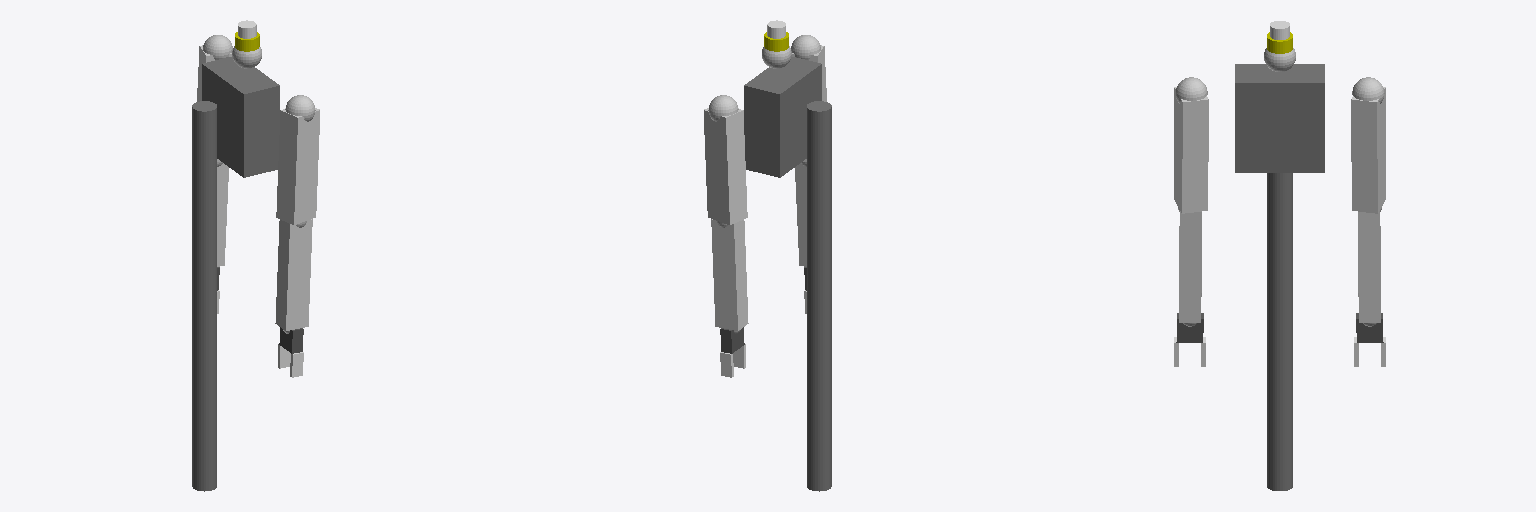
--- What the picture shows (computed from the rendered views, not written in the file) ---
Views: 3 orthographic renders of the robot side by side, from view 1: azimuth 30°, elevation 25°; view 2: azimuth 150°, elevation 25°; view 3: azimuth 270°, elevation 25°.
Model reachy2 with 40 links and 39 joints (21 revolute, 18 fixed), rooted at world, posed every joint at zero.
Links seen in each view (by area): view 1: torso, r_shoulder_link, r_elbow_link, l_elbow_link, r_shoulder_ball_link, l_shoulder_ball_link; view 2: torso, l_shoulder_link, l_elbow_link, r_elbow_link, l_shoulder_ball_link, r_shoulder_ball_link; view 3: torso, r_shoulder_link, l_shoulder_link, r_elbow_link, l_elbow_link, r_shoulder_ball_link, l_shoulder_ball_link, r_hand_palm_link, l_hand_palm_link, neck_ball_link.
Link boxes in pixels (left/top/right/bottom): torso: left=192, top=57, right=279, bottom=491; r_shoulder_link: left=276, top=108, right=319, bottom=224; r_elbow_link: left=275, top=219, right=312, bottom=330; l_elbow_link: left=217, top=163, right=228, bottom=266; r_shoulder_ball_link: left=285, top=95, right=315, bottom=121; l_shoulder_ball_link: left=203, top=35, right=232, bottom=59; torso: left=744, top=57, right=831, bottom=491; l_shoulder_link: left=704, top=108, right=747, bottom=224; l_elbow_link: left=711, top=219, right=748, bottom=330; r_elbow_link: left=795, top=163, right=806, bottom=266; l_shoulder_ball_link: left=708, top=95, right=738, bottom=121; r_shoulder_ball_link: left=791, top=35, right=820, bottom=59; torso: left=1235, top=64, right=1324, bottom=490; r_shoulder_link: left=1174, top=87, right=1208, bottom=213; l_shoulder_link: left=1351, top=87, right=1385, bottom=213; r_elbow_link: left=1179, top=211, right=1201, bottom=322; l_elbow_link: left=1358, top=211, right=1380, bottom=322; r_shoulder_ball_link: left=1175, top=77, right=1207, bottom=103; l_shoulder_ball_link: left=1352, top=77, right=1384, bottom=103; r_hand_palm_link: left=1176, top=313, right=1203, bottom=342; l_hand_palm_link: left=1356, top=313, right=1383, bottom=342; neck_ball_link: left=1264, top=48, right=1295, bottom=71.
Size in the robot's own frame: 0.2239 by 0.4743 by 1.19 metres.
Meshes: 1 distinct files referenced, 0 mesh visuals loaded (none loaded); not drawn: 1 (reference not matched to a file when rendering).

URDF robot description (reachy2):
<?xml version="1.0" ?>
<!-- =================================================================================== -->
<!-- |    This document was autogenerated by xacro from [local-path]/reachy_ws/install/reachy_description/share/reachy_description/urdf/reachy.urdf.xacro | -->
<!-- |    EDITING THIS FILE BY HAND IS NOT RECOMMENDED                                 | -->
<!-- =================================================================================== -->
<!-- Downloaded from https://github.com/pollen-robotics/reachy2_modelling/blob/master/reachy.urdf -->
<robot name="reachy2">
  <!-- convergence angle (rad) of the cameras. 0=parallel-->
  <!-- URDF definition is so stupid we have to do that... -->
  <!-- <material name="gripperblack"> -->
  <!--     <color rgba="0.4 0.4 0.4 1"/> -->
  <!-- </material> -->
  <!-- <material name="gripperwhite"> -->
  <!--     <color rgba="0.9 0.9 0.9 1"/> -->
  <!-- </material> -->
  <!-- <material name="reachy_yellow"> -->
  <!--     <color rgba="0.8 0.8 0.0 1"/> -->
  <!-- </material> -->
  <!-- <material name="reachy_grey"> -->
  <!--     <color rgba="0.8 0.8 0.8 1"/> -->
  <!-- </material> -->
  <!-- <material name="reachy_metal"> -->
  <!--     <color rgba="0.85 0.85 0.85 1.0"/> -->
  <!-- </material> -->
  <!-- <material name="torsoblack"> -->
  <!--     <color rgba="0.5 0.5 0.5 1.0"/> -->
  <!-- </material> -->
  <!-- <material name="eyewhite"> -->
  <!--     <color rgba="1.0 1.0 1.0 1.0"/> -->
  <!-- </material> -->
  <!-- <material name="orbita2dmetal"> -->
  <!--     <color rgba="0.85 0.85 0.85 1.0"/> -->
  <!-- </material> -->
  <!-- <material name="orbita2dgrey"> -->
  <!--     <color rgba="0.8 0.8 0.8 1.0"/> -->
  <!-- </material> -->
  <!-- <material name="orbita3d_yellow"> -->
  <!--     <color rgba="0.8 0.8 0.0 1"/> -->
  <!-- </material> -->
  <!-- <material name="orbita3d_grey"> -->
  <!--     <color rgba="0.8 0.8 0.8 1"/> -->
  <!-- </material> -->
  <material name="camblack">
    <color rgba="0.2 0.2 0.2 1"/>
  </material>
  <material name="neckwhite">
    <color rgba="0.9 0.9 0.9 1"/>
  </material>
  <!-- URDF definition is so stupid we have to do that... -->
  <!-- <material name="gripperblack"> -->
  <!--     <color rgba="0.4 0.4 0.4 1"/> -->
  <!-- </material> -->
  <!-- <material name="gripperwhite"> -->
  <!--     <color rgba="0.9 0.9 0.9 1"/> -->
  <!-- </material> -->
  <!-- <material name="reachy_yellow"> -->
  <!--     <color rgba="0.8 0.8 0.0 1"/> -->
  <!-- </material> -->
  <!-- <material name="reachy_grey"> -->
  <!--     <color rgba="0.8 0.8 0.8 1"/> -->
  <!-- </material> -->
  <!-- <material name="reachy_metal"> -->
  <!--     <color rgba="0.85 0.85 0.85 1.0"/> -->
  <!-- </material> -->
  <!-- <material name="torsoblack"> -->
  <!--     <color rgba="0.5 0.5 0.5 1.0"/> -->
  <!-- </material> -->
  <!-- <material name="eyewhite"> -->
  <!--     <color rgba="1.0 1.0 1.0 1.0"/> -->
  <!-- </material> -->
  <!-- <material name="orbita2dmetal"> -->
  <!--     <color rgba="0.85 0.85 0.85 1.0"/> -->
  <!-- </material> -->
  <!-- <material name="orbita2dgrey"> -->
  <!--     <color rgba="0.8 0.8 0.8 1.0"/> -->
  <!-- </material> -->
  <!-- <material name="orbita3d_yellow"> -->
  <!--     <color rgba="0.8 0.8 0.0 1"/> -->
  <!-- </material> -->
  <!-- <material name="orbita3d_grey"> -->
  <!--     <color rgba="0.8 0.8 0.8 1"/> -->
  <!-- </material> -->
  <!-- URDF definition is so stupid we have to do that... -->
  <!-- <material name="gripperblack"> -->
  <!--     <color rgba="0.4 0.4 0.4 1"/> -->
  <!-- </material> -->
  <!-- <material name="gripperwhite"> -->
  <!--     <color rgba="0.9 0.9 0.9 1"/> -->
  <!-- </material> -->
  <!-- <material name="reachy_yellow"> -->
  <!--     <color rgba="0.8 0.8 0.0 1"/> -->
  <!-- </material> -->
  <!-- <material name="reachy_grey"> -->
  <!--     <color rgba="0.8 0.8 0.8 1"/> -->
  <!-- </material> -->
  <!-- <material name="reachy_metal"> -->
  <!--     <color rgba="0.85 0.85 0.85 1.0"/> -->
  <!-- </material> -->
  <!-- <material name="torsoblack"> -->
  <!--     <color rgba="0.5 0.5 0.5 1.0"/> -->
  <!-- </material> -->
  <!-- <material name="eyewhite"> -->
  <!--     <color rgba="1.0 1.0 1.0 1.0"/> -->
  <!-- </material> -->
  <!-- <material name="orbita2dmetal"> -->
  <!--     <color rgba="0.85 0.85 0.85 1.0"/> -->
  <!-- </material> -->
  <!-- <material name="orbita2dgrey"> -->
  <!--     <color rgba="0.8 0.8 0.8 1.0"/> -->
  <!-- </material> -->
  <!-- <material name="orbita3d_yellow"> -->
  <!--     <color rgba="0.8 0.8 0.0 1"/> -->
  <!-- </material> -->
  <!-- <material name="orbita3d_grey"> -->
  <!--     <color rgba="0.8 0.8 0.8 1"/> -->
  <!-- </material> -->
  <!-- <material name="orbita2dmetal"> -->
  <!--     <color rgba="0.85 0.85 0.85 1.0"/> -->
  <!-- </material> -->
  <!-- <material name="orbita2dgrey"> -->
  <!--     <color rgba="0.8 0.8 0.8 1.0"/> -->
  <!-- </material> -->
  <!-- config  -->
  <!-- MODEL PARAMETERS -->
  <!-- <material name="torsoblack"> -->
  <!--     <color rgba="0.5 0.5 0.5 1.0"/> -->
  <!-- </material> -->
  <link name="world"/>
  <joint name="world_joint" type="fixed">
    <origin rpy="0 0 0" xyz="0 0 1.0"/>
    <parent link="world"/>
    <child link="torso"/>
  </joint>
  <!-- TORSO -->
  <link name="torso">
    <collision>
      <origin rpy="0 0.0 0" xyz="-0.05 0 -0.05"/>
      <geometry>
        <box size="0.1 0.2 0.22"/>
      </geometry>
      <!-- <origin xyz="0 0 -0.5" rpy="0 0 0"/> -->
      <!-- <geometry> -->
      <!--   <cylinder length="1" radius="0.03"/> -->
      <!-- </geometry> -->
    </collision>
    <collision>
      <origin rpy="0 0 0" xyz="-0.15 0 -0.5"/>
      <geometry>
        <cylinder length="1" radius="0.03"/>
      </geometry>
    </collision>
    <visual>
      <origin rpy="0 0.0 0" xyz="-0.05 0 -0.05"/>
      <geometry>
        <box size="0.1 0.2 0.22"/>
      </geometry>
      <material name="torsoblack">
        <color rgba="0.5 0.5 0.5 1.0"/>
      </material>
    </visual>
    <visual>
      <origin rpy="0 0 0" xyz="-0.15 0 -0.5"/>
      <geometry>
        <cylinder length="1" radius="0.03"/>
      </geometry>
      <material name="torsoblack">
        <color rgba="0.5 0.5 0.5 1.0"/>
      </material>
    </visual>
    <inertial>
      <mass value="10"/>
      <origin rpy="0 0 0" xyz="0 0 0.5"/>
      <inertia ixx="0.8354166666666666" ixy="0.0" ixz="0.0" iyy="0.8354166666666666" iyz="0.0" izz="0.0041666666666666675"/>
    </inertial>
  </link>
  <gazebo reference="torso">
    <material>Gazebo/Black</material>
    <static>true</static>
  </gazebo>
  <!--
      Orbita3d

    link                      (joint)

    ${parent}                  (${name}_roll)
      ${name}_dummy_link1      (${name}_pitch)
        ${name}_dummy_link2    (${name}_yaw)
          ${name}_link         (${name}_ball_joint)
            ${name}_ball_link
    -->
  <link name="neck_dummy_link1">
    <inertial>
      <mass value="0.005"/>
      <origin rpy="0 0 0" xyz="0 0 0"/>
      <inertia ixx="2.5416666666666668e-06" ixy="0.0" ixz="0.0" iyy="2.5416666666666668e-06" iyz="0.0" izz="3e-06"/>
    </inertial>
  </link>
  <link name="neck_dummy_link2">
    <inertial>
      <mass value="0.005"/>
      <origin rpy="0 0 0" xyz="0 0 0"/>
      <inertia ixx="2.5416666666666668e-06" ixy="0.0" ixz="0.0" iyy="2.5416666666666668e-06" iyz="0.0" izz="3e-06"/>
    </inertial>
  </link>
  <link name="neck_link">
    <visual>
      <origin rpy="0 0 0" xyz="0 0 0.025"/>
      <geometry>
        <cylinder length="0.05" radius="0.03"/>
      </geometry>
      <material name="orbita3d_yellow">
        <color rgba="0.8 0.8 0.0 1"/>
      </material>
    </visual>
    <collision>
      <origin rpy="0 0 0" xyz="0 0 0.025"/>
      <geometry>
        <cylinder length="0.05" radius="0.03"/>
      </geometry>
    </collision>
    <inertial>
      <mass value="0.24"/>
      <origin rpy="0 0 0" xyz="0 0 -0.025"/>
      <inertia ixx="0.000122" ixy="0.0" ixz="0.0" iyy="0.000122" iyz="0.0" izz="0.000144"/>
    </inertial>
  </link>
  <link name="neck_ball_link">
    <visual>
      <origin rpy="0 0 0" xyz="0 0 0"/>
      <geometry>
        <sphere radius="0.036"/>
      </geometry>
      <material name="orbita3d_grey">
        <color rgba="0.8 0.8 0.8 1"/>
      </material>
    </visual>
    <collision>
      <origin rpy="0 0 0" xyz="0 0 0"/>
      <geometry>
        <sphere radius="0.036"/>
      </geometry>
    </collision>
    <inertial>
      <mass value="0.25"/>
      <origin xyz="0 0 0"/>
      <inertia ixx="0.00012959999999999998" ixy="0.0" ixz="0.0" iyy="0.00012959999999999998" iyz="0.0" izz="0.00012959999999999998"/>
    </inertial>
  </link>
  <joint name="neck_ball_joint" type="fixed">
    <origin rpy="0 0 0" xyz="0 0 0"/>
    <parent link="neck_link"/>
    <child link="neck_ball_link"/>
  </joint>
  <joint name="neck_roll" type="revolute">
    <origin rpy="0 0 0.0" xyz="-0.032893 0 0.110675"/>
    <parent link="torso"/>
    <child link="neck_dummy_link1"/>
    <axis xyz="1 0 0"/>
    <limit effort="1000.0" lower="-0.35" upper="0.35" velocity="100.0"/>
    <dynamics damping="0.1" friction="0.1"/>
  </joint>
  <joint name="neck_pitch" type="revolute">
    <origin rpy="0 0 0" xyz="0 0 0"/>
    <parent link="neck_dummy_link1"/>
    <child link="neck_dummy_link2"/>
    <axis xyz="0 1 0"/>
    <limit effort="1000.0" lower="-0.35" upper="0.35" velocity="100.0"/>
    <dynamics damping="0.1" friction="0.1"/>
  </joint>
  <joint name="neck_yaw" type="revolute">
    <origin rpy="0 0 0" xyz="0 0 0"/>
    <parent link="neck_dummy_link2"/>
    <child link="neck_link"/>
    <axis xyz="0 0 1"/>
    <limit effort="1000.0" lower="-1.57" upper="1.57" velocity="100.0"/>
    <dynamics damping="0.1" friction="0.1"/>
  </joint>
  <ros2_control name="neck" type="system">
    <hardware>
      <plugin>fake_components/GenericSystem</plugin>
    </hardware>
    <gpio name="neck">
      <state_interface name="torque">
        <param name="initial_value">0.0</param>
      </state_interface>
      <command_interface name="torque"/>
    </gpio>
    <joint name="neck_roll">
      <state_interface name="position">
        <param name="initial_value">0.0</param>
      </state_interface>
      <state_interface name="velocity">
        <param name="initial_value">0.0</param>
      </state_interface>
      <state_interface name="effort">
        <param name="initial_value">0.0</param>
      </state_interface>
      <command_interface name="position"/>
    </joint>
    <joint name="neck_pitch">
      <state_interface name="position">
        <param name="initial_value">0.0</param>
      </state_interface>
      <state_interface name="velocity">
        <param name="initial_value">0.0</param>
      </state_interface>
      <state_interface name="effort">
        <param name="initial_value">0.0</param>
      </state_interface>
      <command_interface name="position"/>
    </joint>
    <joint name="neck_yaw">
      <state_interface name="position">
        <param name="initial_value">0.0</param>
      </state_interface>
      <state_interface name="velocity">
        <param name="initial_value">0.0</param>
      </state_interface>
      <state_interface name="effort">
        <param name="initial_value">0.0</param>
      </state_interface>
      <command_interface name="position"/>
    </joint>
    <gpio name="neck_raw_motor_1">
      <state_interface name="speed_limit"/>
      <command_interface name="speed_limit"/>
      <state_interface name="torque_limit"/>
      <command_interface name="torque_limit"/>
      <state_interface name="p_gain"/>
      <command_interface name="p_gain"/>
      <state_interface name="i_gain"/>
      <command_interface name="i_gain"/>
      <state_interface name="d_gain"/>
      <command_interface name="d_gain"/>
    </gpio>
    <gpio name="neck_raw_motor_2">
      <state_interface name="speed_limit"/>
      <command_interface name="speed_limit"/>
      <state_interface name="torque_limit"/>
      <command_interface name="torque_limit"/>
      <state_interface name="p_gain"/>
      <command_interface name="p_gain"/>
      <state_interface name="i_gain"/>
      <command_interface name="i_gain"/>
      <state_interface name="d_gain"/>
      <command_interface name="d_gain"/>
    </gpio>
    <gpio name="neck_raw_motor_3">
      <state_interface name="speed_limit"/>
      <command_interface name="speed_limit"/>
      <state_interface name="torque_limit"/>
      <command_interface name="torque_limit"/>
      <state_interface name="p_gain"/>
      <command_interface name="p_gain"/>
      <state_interface name="i_gain"/>
      <command_interface name="i_gain"/>
      <state_interface name="d_gain"/>
      <command_interface name="d_gain"/>
    </gpio>
  </ros2_control>
  <joint name="neck_fixed" type="fixed">
    <origin rpy="0.0 0.0 0.0" xyz="0 0 0"/>
    <parent link="neck_ball_link"/>
    <child link="head"/>
  </joint>
  <!-- Head Links -->
  <link name="head">
    <inertial>
      <origin rpy="0.0 0.0 0.0" xyz="-0.009 -0.002 0.059"/>
      <mass value="0.237"/>
      <inertia ixx="1.676e-3" ixy="3.068e-6" ixz="1.2449e-4" iyy="1.368e-3" iyz="3.360e-5" izz="8.425e-4"/>
    </inertial>
    <visual name="">
      <origin rpy="0.0 0.0 0.0" xyz="0.0075 0.0 0.085"/>
      <geometry>
        <mesh filename="reachy_description/meshes/head.dae"/>
        <box size="0.015 0.1245 0.0265"/>
      </geometry>
      <material name="camblack"/>
    </visual>
    <collision>
      <origin rpy="0.0 0.0 0.0" xyz="0.0075 0.0 0.085"/>
      <geometry>
        <box size="0.015 0.1245 0.0265"/>
      </geometry>
    </collision>
  </link>
  <link name="head_base">
    <visual name="">
      <origin rpy="0.0 0.0 0.0" xyz="0.00 0.0 0.0425"/>
      <geometry>
        <cylinder length="0.07" radius="0.0225"/>
      </geometry>
      <material name="neckwhite"/>
    </visual>
  </link>
  <joint name="head_base_fixed" type="fixed">
    <origin rpy="0.0 0.0 0" xyz="0.0 0 0.0"/>
    <parent link="head"/>
    <child link="head_base"/>
  </joint>
  <!-- <link name="head_tracker"> -->
  <!--   <visual name=""> -->
  <!--     <origin xyz="0 0 0" rpy="0.0 0.0 0.0"/> -->
  <!--     <geometry> -->
  <!-- 	  <cylinder length="0.04" radius="0.04"/> -->
  <!--     </geometry> -->
  <!-- 	<material name="camblack"/> -->
  <!--   </visual> -->
  <!-- </link> -->
  <!-- <joint name="head_tracker_fixed" type="fixed"> -->
  <!--   <origin xyz="-0.030 0.0 0.111" rpy="0.0 0.0 0"/> -->
  <!--   <parent link="head" /> -->
  <!--   <child link="head_tracker" /> -->
  <!-- </joint> -->
  <link name="head_tip">
    </link>
  <joint name="head_tip_fixed" type="fixed">
    <!-- between the cameras -->
    <origin rpy="0 0.0 0" xyz="0.030 0.022 0.085"/>
    <!-- Rotation center -->
    <!-- <origin xyz="0.0 0 0.0" rpy="0.0 0.0 0"/> -->
    <parent link="head"/>
    <child link="head_tip"/>
  </joint>
  <link name="camera_optical_left">
    </link>
  <joint name="camera_optical_left" type="fixed">
    <!-- between the cameras -->
    <origin rpy="-1.57 0.0 -1.57" xyz="0.030 0.022 0.085"/>
    <!-- Rotation center -->
    <!-- <origin xyz="0.0 0 0.0" rpy="0.0 0.0 0"/> -->
    <parent link="head"/>
    <child link="camera_optical_left"/>
  </joint>
  <!-- Reachy Cameras -->
  <!-- URDF definition is so stupid we have to do that... -->
  <!-- <material name="gripperblack"> -->
  <!--     <color rgba="0.4 0.4 0.4 1"/> -->
  <!-- </material> -->
  <!-- <material name="gripperwhite"> -->
  <!--     <color rgba="0.9 0.9 0.9 1"/> -->
  <!-- </material> -->
  <!-- <material name="reachy_yellow"> -->
  <!--     <color rgba="0.8 0.8 0.0 1"/> -->
  <!-- </material> -->
  <!-- <material name="reachy_grey"> -->
  <!--     <color rgba="0.8 0.8 0.8 1"/> -->
  <!-- </material> -->
  <!-- <material name="reachy_metal"> -->
  <!--     <color rgba="0.85 0.85 0.85 1.0"/> -->
  <!-- </material> -->
  <!-- <material name="torsoblack"> -->
  <!--     <color rgba="0.5 0.5 0.5 1.0"/> -->
  <!-- </material> -->
  <!-- <material name="eyewhite"> -->
  <!--     <color rgba="1.0 1.0 1.0 1.0"/> -->
  <!-- </material> -->
  <!-- <material name="orbita2dmetal"> -->
  <!--     <color rgba="0.85 0.85 0.85 1.0"/> -->
  <!-- </material> -->
  <!-- <material name="orbita2dgrey"> -->
  <!--     <color rgba="0.8 0.8 0.8 1.0"/> -->
  <!-- </material> -->
  <!-- <material name="orbita3d_yellow"> -->
  <!--     <color rgba="0.8 0.8 0.0 1"/> -->
  <!-- </material> -->
  <!-- <material name="orbita3d_grey"> -->
  <!--     <color rgba="0.8 0.8 0.8 1"/> -->
  <!-- </material> -->
  <!-- URDF definition is so stupid we have to do that... -->
  <!-- <material name="gripperblack"> -->
  <!--     <color rgba="0.4 0.4 0.4 1"/> -->
  <!-- </material> -->
  <!-- <material name="gripperwhite"> -->
  <!--     <color rgba="0.9 0.9 0.9 1"/> -->
  <!-- </material> -->
  <!-- <material name="reachy_yellow"> -->
  <!--     <color rgba="0.8 0.8 0.0 1"/> -->
  <!-- </material> -->
  <!-- <material name="reachy_grey"> -->
  <!--     <color rgba="0.8 0.8 0.8 1"/> -->
  <!-- </material> -->
  <!-- <material name="reachy_metal"> -->
  <!--     <color rgba="0.85 0.85 0.85 1.0"/> -->
  <!-- </material> -->
  <!-- <material name="torsoblack"> -->
  <!--     <color rgba="0.5 0.5 0.5 1.0"/> -->
  <!-- </material> -->
  <!-- <material name="eyewhite"> -->
  <!--     <color rgba="1.0 1.0 1.0 1.0"/> -->
  <!-- </material> -->
  <!-- <material name="orbita2dmetal"> -->
  <!--     <color rgba="0.85 0.85 0.85 1.0"/> -->
  <!-- </material> -->
  <!-- <material name="orbita2dgrey"> -->
  <!--     <color rgba="0.8 0.8 0.8 1.0"/> -->
  <!-- </material> -->
  <!-- <material name="orbita3d_yellow"> -->
  <!--     <color rgba="0.8 0.8 0.0 1"/> -->
  <!-- </material> -->
  <!-- <material name="orbita3d_grey"> -->
  <!--     <color rgba="0.8 0.8 0.8 1"/> -->
  <!-- </material> -->
  <!-- <material name="orbita2dmetal"> -->
  <!--     <color rgba="0.85 0.85 0.85 1.0"/> -->
  <!-- </material> -->
  <!-- <material name="orbita2dgrey"> -->
  <!--     <color rgba="0.8 0.8 0.8 1.0"/> -->
  <!-- </material> -->
  <!-- <!-\- Orbita2d config -\-> -->
  <!-- <xacro:arg name="orbita2d_shoulder_config" default="$(find
    orbita2d_description)/config/fake.yaml"/> -->
  <!-- <xacro:arg name="orbita2d_elbow_config" default="$(find
    orbita2d_description)/config/fake.yaml"/> -->
  <!-- <!-\- Orbita3d config -\-> -->
  <!-- <xacro:arg name="orbita3d_wrist_config" default="$(find
    orbita3d_controller)/config/fake.yaml"/> -->
  <!-- ARM PARAMETERS -->
  <link name="r_virtual_offset"/>
  <joint name="r_virtual_joint" type="fixed">
    <origin rpy="-0.17453292519943295 0 0" xyz="0 0 0"/>
    <parent link="torso"/>
    <child link="r_virtual_offset"/>
  </joint>
  <!--
      Orbita 2 dof

    link                      (joint)

    ${parent}                 (${name}_joint1)
      ${name}_dummy_link      (${name}_joint2)
        ${name}_link          (${name}_ball_joint)
          ${name}_ball_link
    -->
  <link name="r_shoulder_dummy_link">
    <inertial>
      <mass value="0.005"/>
      <origin rpy="0 0 0" xyz="0 0 0"/>
      <inertia ixx="3.416666666666667e-05" ixy="0.0" ixz="0.0" iyy="3.416666666666667e-05" iyz="0.0" izz="3e-06"/>
    </inertial>
  </link>
  <joint name="r_shoulder_pitch" type="revolute">
    <origin rpy="0.17453292519943295 0 0.2617993877991494" xyz="0.0 -0.2 0.0"/>
    <parent link="r_virtual_offset"/>
    <child link="r_shoulder_dummy_link"/>
    <axis xyz="0 1 0"/>
    <limit effort="1000.0" lower="-1.5707963267948966" upper="1.5707963267948966" velocity="100.0"/>
    <safety_controller k_position="500" k_velocity="500" soft_lower_limit="-3.1415" soft_upper_limit="3.1415"/>
    <dynamics damping="0.1" friction="0.1"/>
  </joint>
  <link name="r_shoulder_link">
    <collision>
      <origin rpy="0 0 0" xyz="0 0 -0.14"/>
      <geometry>
        <!-- <cylinder length="${length}" radius="${radius}"/> -->
        <box size="0.075 0.06 0.28"/>
      </geometry>
    </collision>
    <visual>
      <origin rpy="0 0 0" xyz="0 0 -0.14"/>
      <geometry>
        <!-- <cylinder length="${length}" radius="${radius}"/> -->
        <box size="0.075 0.06 0.28"/>
      </geometry>
      <material name="orbita2dmetal">
        <color rgba="0.85 0.85 0.85 1.0"/>
      </material>
    </visual>
    <inertial>
      <mass value="0.245"/>
      <origin rpy="0 0 0" xyz="0 0 -0.14"/>
      <inertia ixx="0.001674166666666667" ixy="0.0" ixz="0.0" iyy="0.001674166666666667" iyz="0.0" izz="0.000147"/>
    </inertial>
  </link>
  <joint name="r_shoulder_roll" type="revolute">
    <origin rpy="0 0 0" xyz="0 0 0"/>
    <parent link="r_shoulder_dummy_link"/>
    <child link="r_shoulder_link"/>
    <axis xyz="1 0 0"/>
    <limit effort="1000.0" lower="-1.5707963267948966" upper="0.0" velocity="100.0"/>
    <safety_controller k_position="500" k_velocity="500" soft_lower_limit="-3.1415" soft_upper_limit="3.1415"/>
    <dynamics damping="0.1" friction="0.1"/>
  </joint>
  <gazebo reference="r_shoulder_link">
    <material>Gazebo/Orange</material>
  </gazebo>
  <link name="r_shoulder_ball_link">
    <visual>
      <origin rpy="0 0 0" xyz="0 0 0"/>
      <geometry>
        <sphere radius="0.036"/>
      </geometry>
      <material name="orbita2dgrey">
        <color rgba="0.8 0.8 0.8 1.0"/>
      </material>
    </visual>
    <collision>
      <origin rpy="0 0 0" xyz="0 0 0"/>
      <geometry>
        <sphere radius="0.036"/>
      </geometry>
    </collision>
    <inertial>
      <mass value="0.25"/>
      <origin xyz="0 0 0"/>
      <inertia ixx="0.00012959999999999998" ixy="0.0" ixz="0.0" iyy="0.00012959999999999998" iyz="0.0" izz="0.00012959999999999998"/>
    </inertial>
  </link>
  <joint name="r_shoulder_ball_joint" type="fixed">
    <origin rpy="0 0 0" xyz="0 0 0"/>
    <parent link="r_shoulder_link"/>
    <child link="r_shoulder_ball_link"/>
  </joint>
  <!--
      Orbita 2 dof

    link                      (joint)

    ${parent}                 (${name}_joint1)
      ${name}_dummy_link      (${name}_joint2)
        ${name}_link          (${name}_ball_joint)
          ${name}_ball_link
    -->
  <link name="r_elbow_dummy_link">
    <inertial>
      <mass value="0.0045000000000000005"/>
      <origin rpy="0 0 0" xyz="0 0 0"/>
      <inertia ixx="3.033750000000001e-05" ixy="0.0" ixz="0.0" iyy="3.033750000000001e-05" iyz="0.0" izz="1.8750000000000007e-06"/>
    </inertial>
  </link>
  <joint name="r_elbow_yaw" type="revolute">
    <origin rpy="0 0 -0.2617993877991494" xyz="0 0 -0.28"/>
    <parent link="r_shoulder_ball_link"/>
    <child link="r_elbow_dummy_link"/>
    <axis xyz="0 0 1"/>
    <limit effort="1000.0" lower="-1.5707963267948966" upper="1.5707963267948966" velocity="100.0"/>
    <safety_controller k_position="500" k_velocity="500" soft_lower_limit="-3.1415" soft_upper_limit="3.1415"/>
    <dynamics damping="0.1" friction="0.1"/>
  </joint>
  <link name="r_elbow_link">
    <collision>
      <origin rpy="0 0 0" xyz="0 0 -0.14"/>
      <geometry>
        <!-- <cylinder length="${length}" radius="${radius}"/> -->
        <box size="0.0625 0.05 0.28"/>
      </geometry>
    </collision>
    <visual>
      <origin rpy="0 0 0" xyz="0 0 -0.14"/>
      <geometry>
        <!-- <cylinder length="${length}" radius="${radius}"/> -->
        <box size="0.0625 0.05 0.28"/>
      </geometry>
      <material name="orbita2dmetal">
        <color rgba="0.85 0.85 0.85 1.0"/>
      </material>
    </visual>
    <inertial>
      <mass value="0.2205"/>
      <origin rpy="0 0 0" xyz="0 0 -0.14"/>
      <inertia ixx="0.0014865375000000002" ixy="0.0" ixz="0.0" iyy="0.0014865375000000002" iyz="0.0" izz="9.187500000000001e-05"/>
    </inertial>
  </link>
  <joint name="r_elbow_pitch" type="revolute">
    <origin rpy="0 0 0" xyz="0 0 0"/>
    <parent link="r_elbow_dummy_link"/>
    <child link="r_elbow_link"/>
    <axis xyz="0 1 0"/>
    <limit effort="1000.0" lower="-2.25" upper="0.1" velocity="100.0"/>
    <safety_controller k_position="500" k_velocity="500" soft_lower_limit="-3.1415" soft_upper_limit="3.1415"/>
    <dynamics damping="0.1" friction="0.1"/>
  </joint>
  <gazebo reference="r_elbow_link">
    <material>Gazebo/Orange</material>
  </gazebo>
  <link name="r_elbow_ball_link">
    <visual>
      <origin rpy="0 0 0" xyz="0 0 0"/>
      <geometry>
        <sphere radius="0.03"/>
      </geometry>
      <material name="orbita2dgrey">
        <color rgba="0.8 0.8 0.8 1.0"/>
      </material>
    </visual>
    <collision>
      <origin rpy="0 0 0" xyz="0 0 0"/>
      <geometry>
        <sphere radius="0.03"/>
      </geometry>
    </collision>
    <inertial>
      <mass value="0.225"/>
      <origin xyz="0 0 0"/>
      <inertia ixx="8.1e-05" ixy="0.0" ixz="0.0" iyy="8.1e-05" iyz="0.0" izz="8.1e-05"/>
    </inertial>
  </link>
  <joint name="r_elbow_ball_joint" type="fixed">
    <origin rpy="0 0 0" xyz="0 0 0"/>
    <parent link="r_elbow_link"/>
    <child link="r_elbow_ball_link"/>
  </joint>
  <!--
      Orbita3d

    link                      (joint)

    ${parent}                  (${name}_roll)
      ${name}_dummy_link1      (${name}_pitch)
        ${name}_dummy_link2    (${name}_yaw)
          ${name}_link         (${name}_ball_joint)
            ${name}_ball_link
    -->
  <link name="r_wrist_dummy_link1">
    <inertial>
      <mass value="0.003"/>
      <origin rpy="0 0 0" xyz="0 0 0"/>
      <inertia ixx="4.25e-07" ixy="0.0" ixz="0.0" iyy="4.25e-07" iyz="0.0" izz="8.000000000000001e-07"/>
    </inertial>
  </link>
  <link name="r_wrist_dummy_link2">
    <inertial>
      <mass value="0.003"/>
      <origin rpy="0 0 0" xyz="0 0 0"/>
      <inertia ixx="4.25e-07" ixy="0.0" ixz="0.0" iyy="4.25e-07" iyz="0.0" izz="8.000000000000001e-07"/>
    </inertial>
  </link>
  <link name="r_wrist_link">
    <visual>
      <origin rpy="0 0 0" xyz="0 0 0.005"/>
      <geometry>
        <cylinder length="0.01" radius="0.02"/>
      </geometry>
      <material name="orbita3d_yellow">
        <color rgba="0.8 0.8 0.0 1"/>
      </material>
    </visual>
    <collision>
      <origin rpy="0 0 0" xyz="0 0 0.005"/>
      <geometry>
        <cylinder length="0.01" radius="0.02"/>
      </geometry>
    </collision>
    <inertial>
      <mass value="0.144"/>
      <origin rpy="0 0 0" xyz="0 0 -0.005"/>
      <inertia ixx="2.0399999999999998e-05" ixy="0.0" ixz="0.0" iyy="2.0399999999999998e-05" iyz="0.0" izz="3.84e-05"/>
    </inertial>
  </link>
  <link name="r_wrist_ball_link">
    <visual>
      <origin rpy="0 0 0" xyz="0 0 0"/>
      <geometry>
        <sphere radius="0.024"/>
      </geometry>
      <material name="orbita3d_grey">
        <color rgba="0.8 0.8 0.8 1"/>
      </material>
    </visual>
    <collision>
      <origin rpy="0 0 0" xyz="0 0 0"/>
      <geometry>
        <sphere radius="0.024"/>
      </geometry>
    </collision>
    <inertial>
      <mass value="0.15"/>
      <origin xyz="0 0 0"/>
      <inertia ixx="3.456e-05" ixy="0.0" ixz="0.0" iyy="3.456e-05" iyz="0.0" izz="3.456e-05"/>
    </inertial>
  </link>
  <joint name="r_wrist_ball_joint" type="fixed">
    <origin rpy="0 0 0" xyz="0 0 0"/>
    <parent link="r_wrist_link"/>
    <child link="r_wrist_ball_link"/>
  </joint>
  <joint name="r_wrist_roll" type="revolute">
    <origin rpy="3.141592653589793 0 0" xyz="0 0 -0.28"/>
    <parent link="r_elbow_ball_link"/>
    <child link="r_wrist_dummy_link1"/>
    <axis xyz="1 0 0"/>
    <limit effort="1000.0" lower="-0.35" upper="0.35" velocity="100.0"/>
    <dynamics damping="0.1" friction="0.1"/>
  </joint>
  <joint name="r_wrist_pitch" type="revolute">
    <origin rpy="0 0 0" xyz="0 0 0"/>
    <parent link="r_wrist_dummy_link1"/>
    <child link="r_wrist_dummy_link2"/>
    <axis xyz="0 1 0"/>
    <limit effort="1000.0" lower="-0.35" upper="0.35" velocity="100.0"/>
    <dynamics damping="0.1" friction="0.1"/>
  </joint>
  <joint name="r_wrist_yaw" type="revolute">
    <origin rpy="0 0 0" xyz="0 0 0"/>
    <parent link="r_wrist_dummy_link2"/>
    <child link="r_wrist_link"/>
    <axis xyz="0 0 1"/>
    <limit effort="1000.0" lower="-1.57" upper="1.57" velocity="100.0"/>
    <dynamics damping="0.1" friction="0.1"/>
  </joint>
  <!-- URDF definition is so stupid we have to do that... -->
  <!-- <material name="gripperblack"> -->
  <!--     <color rgba="0.4 0.4 0.4 1"/> -->
  <!-- </material> -->
  <!-- <material name="gripperwhite"> -->
  <!--     <color rgba="0.9 0.9 0.9 1"/> -->
  <!-- </material> -->
  <!-- <material name="reachy_yellow"> -->
  <!--     <color rgba="0.8 0.8 0.0 1"/> -->
  <!-- </material> -->
  <!-- <material name="reachy_grey"> -->
  <!--     <color rgba="0.8 0.8 0.8 1"/> -->
  <!-- </material> -->
  <!-- <material name="reachy_metal"> -->
  <!--     <color rgba="0.85 0.85 0.85 1.0"/> -->
  <!-- </material> -->
  <!-- <material name="torsoblack"> -->
  <!--     <color rgba="0.5 0.5 0.5 1.0"/> -->
  <!-- </material> -->
  <!-- <material name="eyewhite"> -->
  <!--     <color rgba="1.0 1.0 1.0 1.0"/> -->
  <!-- </material> -->
  <!-- <material name="orbita2dmetal"> -->
  <!--     <color rgba="0.85 0.85 0.85 1.0"/> -->
  <!-- </material> -->
  <!-- <material name="orbita2dgrey"> -->
  <!--     <color rgba="0.8 0.8 0.8 1.0"/> -->
  <!-- </material> -->
  <!-- <material name="orbita3d_yellow"> -->
  <!--     <color rgba="0.8 0.8 0.0 1"/> -->
  <!-- </material> -->
  <!-- <material name="orbita3d_grey"> -->
  <!--     <color rgba="0.8 0.8 0.8 1"/> -->
  <!-- </material> -->
  <!-- <material name="gripperblack"> -->
  <!--     <color rgba="0.4 0.4 0.4 1"/> -->
  <!-- </material> -->
  <!-- <material name="gripperwhite"> -->
  <!--     <color rgba="0.9 0.9 0.9 1"/> -->
  <!-- </material> -->
  <link name="r_hand_palm_link">
    <collision>
      <origin rpy="0 0 0" xyz="0 0 0.03 "/>
      <geometry>
        <box size="0.03 0.06 0.06"/>
      </geometry>
    </collision>
    <visual>
      <origin rpy="0 0 0" xyz="0 0 0.03 "/>
      <geometry>
        <box size="0.03 0.06 0.06"/>
      </geometry>
      <material name="gripperblack">
        <color rgba="0.4 0.4 0.4 1"/>
      </material>
    </visual>
    <inertial>
      <mass value="0.2125"/>
      <origin rpy="0 0 0" xyz="0 0 0.03"/>
      <inertia ixx="0.00012749999999999998" ixy="0.0" ixz="0.0" iyy="7.968749999999999e-05" iyz="0.0" izz="7.968749999999999e-05"/>
    </inertial>
  </link>
  <joint name="r_hand_palm" type="fixed">
    <origin rpy="0.0 0 0.0" xyz="0 0 0"/>
    <parent link="r_wrist_ball_link"/>
    <child link="r_hand_palm_link"/>
  </joint>
  <link name="r_hand_index_link">
    <collision>
      <origin rpy="0 0 0" xyz="0 0 0.03 "/>
      <geometry>
        <box size="0.03 0.01 0.06"/>
      </geometry>
    </collision>
    <visual>
      <origin rpy="0 0 0" xyz="0 0 0.03 "/>
      <geometry>
        <box size="0.03 0.01 0.06"/>
      </geometry>
      <material name="gripperwhite">
        <color rgba="0.9 0.9 0.9 1"/>
      </material>
    </visual>
    <inertial>
      <mass value="0.025"/>
      <origin rpy="0 0 0" xyz="0 0.03 0.03"/>
      <inertia ixx="7.708333333333334e-06" ixy="0.0" ixz="0.0" iyy="9.375e-06" iyz="0.0" izz="2.0833333333333334e-06"/>
    </inertial>
  </link>
  <link name="r_hand_index_mimic_link">
    <collision>
      <origin rpy="0 0 0" xyz="0 0 0.03 "/>
      <geometry>
        <box size="0.03 0.01 0.06"/>
      </geometry>
    </collision>
    <visual>
      <origin rpy="0 0 0" xyz="0 0 0.03 "/>
      <geometry>
        <box size="0.03 0.01 0.06"/>
      </geometry>
      <material name="gripperwhite">
        <color rgba="0.9 0.9 0.9 1"/>
      </material>
    </visual>
    <inertial>
      <mass value="0.025"/>
      <origin rpy="0 0 0" xyz="0 0.03 0.03"/>
      <inertia ixx="7.708333333333334e-06" ixy="0.0" ixz="0.0" iyy="9.375e-06" iyz="0.0" izz="2.0833333333333334e-06"/>
    </inertial>
  </link>
  <joint name="r_hand_finger" type="revolute">
    <origin rpy="0 0 0" xyz="0 0.03 0.06"/>
    <parent link="r_hand_palm_link"/>
    <child link="r_hand_index_link"/>
    <axis xyz="1 0 0"/>
    <limit effort="1000.0" lower="-0.785" upper="2.094" velocity="0.0"/>
    <dynamics damping="0.1" friction="0.1"/>
  </joint>
  <joint name="r_hand_finger_mimic" type="revolute">
    <origin rpy="0 0 0" xyz="0 -0.03 0.06"/>
    <parent link="r_hand_palm_link"/>
    <child link="r_hand_index_mimic_link"/>
    <axis xyz="1 0 0"/>
    <limit effort="1000.0" lower="-0.785" upper="2.094" velocity="0.0"/>
    <dynamics damping="0.1" friction="0.1"/>
    <mimic joint="r_hand_finger" multiplier="-1" offset="0"/>
  </joint>
  <link name="r_arm_tip"/>
  <joint name="r_tip_joint" type="fixed">
    <origin rpy="3.141592653589793 0 0" xyz="0 0 0.1"/>
    <parent link="r_hand_palm_link"/>
    <child link="r_arm_tip"/>
  </joint>
  <ros2_control name="r_arm" type="system">
    <hardware>
      <!-- Use real hardware. -->
      <!-- <xacro:unless value="$(arg use_fake_hardware)"> -->
      <plugin>arm_system_hwi/ArmSystemHwi</plugin>
      <param name="config_file">[local-path]/reachy_ws/install/arm_description/share/arm_description/config/fake_arm.yaml</param>
      <!-- </xacro:unless> -->
      <!-- <xacro:if value="$(arg use_fake_hardware)"> -->
      <!-- Use gazebo as hardware simulation. -->
      <!-- <xacro:if value="$(arg use_gazebo)"> -->
      <!-- <plugin>gazebo_ros2_control/GazeboSystem</plugin> -->
      <!-- </xacro:if> -->
      <!-- Use fake components. -->
      <!-- <xacro:unless value="$(arg use_gazebo)"> -->
      <!-- <plugin>fake_components/GenericSystem</plugin> -->
      <!-- </xacro:unless> -->
      <!-- </xacro:if> -->
    </hardware>
    <gpio name="r_shoulder">
      <state_interface name="torque">
        <param name="initial_value">0.0</param>
      </state_interface>
      <command_interface name="torque"/>
    </gpio>
    <joint name="r_shoulder_pitch">
      <state_interface name="position">
        <param name="initial_value">0.0</param>
      </state_interface>
      <state_interface name="velocity">
        <param name="initial_value">0.0</param>
      </state_interface>
      <state_interface name="effort">
        <param name="initial_value">0.0</param>
      </state_interface>
      <command_interface name="position"/>
    </joint>
    <joint name="r_shoulder_roll">
      <state_interface name="position">
        <param name="initial_value">0.0</param>
      </state_interface>
      <state_interface name="velocity">
        <param name="initial_value">0.0</param>
      </state_interface>
      <state_interface name="effort">
        <param name="initial_value">0.0</param>
      </state_interface>
      <command_interface name="position"/>
    </joint>
    <gpio name="r_shoulder_raw_motor_1">
      <state_interface name="speed_limit"/>
      <command_interface name="speed_limit"/>
      <state_interface name="torque_limit"/>
      <command_interface name="torque_limit"/>
      <state_interface name="p_gain"/>
      <command_interface name="p_gain"/>
      <state_interface name="i_gain"/>
      <command_interface name="i_gain"/>
      <state_interface name="d_gain"/>
      <command_interface name="d_gain"/>
    </gpio>
    <gpio name="r_shoulder_raw_motor_2">
      <state_interface name="speed_limit"/>
      <command_interface name="speed_limit"/>
      <state_interface name="torque_limit"/>
      <command_interface name="torque_limit"/>
      <state_interface name="p_gain"/>
      <command_interface name="p_gain"/>
      <state_interface name="i_gain"/>
      <command_interface name="i_gain"/>
      <state_interface name="d_gain"/>
      <command_interface name="d_gain"/>
    </gpio>
    <gpio name="r_elbow">
      <state_interface name="torque">
        <param name="initial_value">0.0</param>
      </state_interface>
      <command_interface name="torque"/>
    </gpio>
    <joint name="r_elbow_yaw">
      <state_interface name="position">
        <param name="initial_value">0.0</param>
      </state_interface>
      <state_interface name="velocity">
        <param name="initial_value">0.0</param>
      </state_interface>
      <state_interface name="effort">
        <param name="initial_value">0.0</param>
      </state_interface>
      <command_interface name="position"/>
    </joint>
    <joint name="r_elbow_pitch">
      <state_interface name="position">
        <param name="initial_value">0.0</param>
      </state_interface>
      <state_interface name="velocity">
        <param name="initial_value">0.0</param>
      </state_interface>
      <state_interface name="effort">
        <param name="initial_value">0.0</param>
      </state_interface>
      <command_interface name="position"/>
    </joint>
    <gpio name="r_elbow_raw_motor_1">
      <state_interface name="speed_limit"/>
      <command_interface name="speed_limit"/>
      <state_interface name="torque_limit"/>
      <command_interface name="torque_limit"/>
      <state_interface name="p_gain"/>
      <command_interface name="p_gain"/>
      <state_interface name="i_gain"/>
      <command_interface name="i_gain"/>
      <state_interface name="d_gain"/>
      <command_interface name="d_gain"/>
    </gpio>
    <gpio name="r_elbow_raw_motor_2">
      <state_interface name="speed_limit"/>
      <command_interface name="speed_limit"/>
      <state_interface name="torque_limit"/>
      <command_interface name="torque_limit"/>
      <state_interface name="p_gain"/>
      <command_interface name="p_gain"/>
      <state_interface name="i_gain"/>
      <command_interface name="i_gain"/>
      <state_interface name="d_gain"/>
      <command_interface name="d_gain"/>
    </gpio>
    <gpio name="r_wrist">
      <state_interface name="torque">
        <param name="initial_value">0.0</param>
      </state_interface>
      <command_interface name="torque"/>
    </gpio>
    <joint name="r_wrist_roll">
      <state_interface name="position">
        <param name="initial_value">0.0</param>
      </state_interface>
      <state_interface name="velocity">
        <param name="initial_value">0.0</param>
      </state_interface>
      <state_interface name="effort">
        <param name="initial_value">0.0</param>
      </state_interface>
      <command_interface name="position"/>
    </joint>
    <joint name="r_wrist_pitch">
      <state_interface name="position">
        <param name="initial_value">0.0</param>
      </state_interface>
      <state_interface name="velocity">
        <param name="initial_value">0.0</param>
      </state_interface>
      <state_interface name="effort">
        <param name="initial_value">0.0</param>
      </state_interface>
      <command_interface name="position"/>
    </joint>
    <joint name="r_wrist_yaw">
      <state_interface name="position">
        <param name="initial_value">0.0</param>
      </state_interface>
      <state_interface name="velocity">
        <param name="initial_value">0.0</param>
      </state_interface>
      <state_interface name="effort">
        <param name="initial_value">0.0</param>
      </state_interface>
      <command_interface name="position"/>
    </joint>
    <gpio name="r_wrist_raw_motor_1">
      <state_interface name="speed_limit"/>
      <command_interface name="speed_limit"/>
      <state_interface name="torque_limit"/>
      <command_interface name="torque_limit"/>
      <state_interface name="p_gain"/>
      <command_interface name="p_gain"/>
      <state_interface name="i_gain"/>
      <command_interface name="i_gain"/>
      <state_interface name="d_gain"/>
      <command_interface name="d_gain"/>
    </gpio>
    <gpio name="r_wrist_raw_motor_2">
      <state_interface name="speed_limit"/>
      <command_interface name="speed_limit"/>
      <state_interface name="torque_limit"/>
      <command_interface name="torque_limit"/>
      <state_interface name="p_gain"/>
      <command_interface name="p_gain"/>
      <state_interface name="i_gain"/>
      <command_interface name="i_gain"/>
      <state_interface name="d_gain"/>
      <command_interface name="d_gain"/>
    </gpio>
    <gpio name="r_wrist_raw_motor_3">
      <state_interface name="speed_limit"/>
      <command_interface name="speed_limit"/>
      <state_interface name="torque_limit"/>
      <command_interface name="torque_limit"/>
      <state_interface name="p_gain"/>
      <command_interface name="p_gain"/>
      <state_interface name="i_gain"/>
      <command_interface name="i_gain"/>
      <state_interface name="d_gain"/>
      <command_interface name="d_gain"/>
    </gpio>
    <gpio name="r_hand">
      <state_interface name="torque">
        <param name="initial_value">0.0</param>
      </state_interface>
      <command_interface name="torque"/>
    </gpio>
    <joint name="r_hand_finger">
      <state_interface name="position">
        <param name="initial_value">0.0</param>
      </state_interface>
      <state_interface name="velocity">
        <param name="initial_value">0.0</param>
      </state_interface>
      <state_interface name="effort">
        <param name="initial_value">0.0</param>
      </state_interface>
      <command_interface name="position"/>
    </joint>
    <gpio name="r_hand_raw_motor_1">
      <state_interface name="speed_limit"/>
      <command_interface name="speed_limit"/>
      <state_interface name="torque_limit"/>
      <command_interface name="torque_limit"/>
      <state_interface name="p_gain"/>
      <command_interface name="p_gain"/>
      <state_interface name="i_gain"/>
      <command_interface name="i_gain"/>
      <state_interface name="d_gain"/>
      <command_interface name="d_gain"/>
    </gpio>
  </ros2_control>
  <!-- URDF definition is so stupid we have to do that... -->
  <!-- <material name="gripperblack"> -->
  <!--     <color rgba="0.4 0.4 0.4 1"/> -->
  <!-- </material> -->
  <!-- <material name="gripperwhite"> -->
  <!--     <color rgba="0.9 0.9 0.9 1"/> -->
  <!-- </material> -->
  <!-- <material name="reachy_yellow"> -->
  <!--     <color rgba="0.8 0.8 0.0 1"/> -->
  <!-- </material> -->
  <!-- <material name="reachy_grey"> -->
  <!--     <color rgba="0.8 0.8 0.8 1"/> -->
  <!-- </material> -->
  <!-- <material name="reachy_metal"> -->
  <!--     <color rgba="0.85 0.85 0.85 1.0"/> -->
  <!-- </material> -->
  <!-- <material name="torsoblack"> -->
  <!--     <color rgba="0.5 0.5 0.5 1.0"/> -->
  <!-- </material> -->
  <!-- <material name="eyewhite"> -->
  <!--     <color rgba="1.0 1.0 1.0 1.0"/> -->
  <!-- </material> -->
  <!-- <material name="orbita2dmetal"> -->
  <!--     <color rgba="0.85 0.85 0.85 1.0"/> -->
  <!-- </material> -->
  <!-- <material name="orbita2dgrey"> -->
  <!--     <color rgba="0.8 0.8 0.8 1.0"/> -->
  <!-- </material> -->
  <!-- <material name="orbita3d_yellow"> -->
  <!--     <color rgba="0.8 0.8 0.0 1"/> -->
  <!-- </material> -->
  <!-- <material name="orbita3d_grey"> -->
  <!--     <color rgba="0.8 0.8 0.8 1"/> -->
  <!-- </material> -->
  <!-- URDF definition is so stupid we have to do that... -->
  <!-- <material name="gripperblack"> -->
  <!--     <color rgba="0.4 0.4 0.4 1"/> -->
  <!-- </material> -->
  <!-- <material name="gripperwhite"> -->
  <!--     <color rgba="0.9 0.9 0.9 1"/> -->
  <!-- </material> -->
  <!-- <material name="reachy_yellow"> -->
  <!--     <color rgba="0.8 0.8 0.0 1"/> -->
  <!-- </material> -->
  <!-- <material name="reachy_grey"> -->
  <!--     <color rgba="0.8 0.8 0.8 1"/> -->
  <!-- </material> -->
  <!-- <material name="reachy_metal"> -->
  <!--     <color rgba="0.85 0.85 0.85 1.0"/> -->
  <!-- </material> -->
  <!-- <material name="torsoblack"> -->
  <!--     <color rgba="0.5 0.5 0.5 1.0"/> -->
  <!-- </material> -->
  <!-- <material name="eyewhite"> -->
  <!--     <color rgba="1.0 1.0 1.0 1.0"/> -->
  <!-- </material> -->
  <!-- <material name="orbita2dmetal"> -->
  <!--     <color rgba="0.85 0.85 0.85 1.0"/> -->
  <!-- </material> -->
  <!-- <material name="orbita2dgrey"> -->
  <!--     <color rgba="0.8 0.8 0.8 1.0"/> -->
  <!-- </material> -->
  <!-- <material name="orbita3d_yellow"> -->
  <!--     <color rgba="0.8 0.8 0.0 1"/> -->
  <!-- </material> -->
  <!-- <material name="orbita3d_grey"> -->
  <!--     <color rgba="0.8 0.8 0.8 1"/> -->
  <!-- </material> -->
  <!-- <material name="orbita2dmetal"> -->
  <!--     <color rgba="0.85 0.85 0.85 1.0"/> -->
  <!-- </material> -->
  <!-- <material name="orbita2dgrey"> -->
  <!--     <color rgba="0.8 0.8 0.8 1.0"/> -->
  <!-- </material> -->
  <!-- <!-\- Orbita2d config -\-> -->
  <!-- <xacro:arg name="orbita2d_shoulder_config" default="$(find
    orbita2d_description)/config/fake.yaml"/> -->
  <!-- <xacro:arg name="orbita2d_elbow_config" default="$(find
    orbita2d_description)/config/fake.yaml"/> -->
  <!-- <!-\- Orbita3d config -\-> -->
  <!-- <xacro:arg name="orbita3d_wrist_config" default="$(find
    orbita3d_controller)/config/fake.yaml"/> -->
  <!-- ARM PARAMETERS -->
  <link name="l_virtual_offset"/>
  <joint name="l_virtual_joint" type="fixed">
    <origin rpy="0.17453292519943295 0 0" xyz="0 0 0"/>
    <parent link="torso"/>
    <child link="l_virtual_offset"/>
  </joint>
  <!--
      Orbita 2 dof

    link                      (joint)

    ${parent}                 (${name}_joint1)
      ${name}_dummy_link      (${name}_joint2)
        ${name}_link          (${name}_ball_joint)
          ${name}_ball_link
    -->
  <link name="l_shoulder_dummy_link">
    <inertial>
      <mass value="0.005"/>
      <origin rpy="0 0 0" xyz="0 0 0"/>
      <inertia ixx="3.416666666666667e-05" ixy="0.0" ixz="0.0" iyy="3.416666666666667e-05" iyz="0.0" izz="3e-06"/>
    </inertial>
  </link>
  <joint name="l_shoulder_pitch" type="revolute">
    <origin rpy="-0.17453292519943295 0 -0.2617993877991494" xyz="0.0 0.2 0.0"/>
    <parent link="l_virtual_offset"/>
    <child link="l_shoulder_dummy_link"/>
    <axis xyz="0 1 0"/>
    <limit effort="1000.0" lower="-1.5707963267948966" upper="1.5707963267948966" velocity="100.0"/>
    <safety_controller k_position="500" k_velocity="500" soft_lower_limit="-3.1415" soft_upper_limit="3.1415"/>
    <dynamics damping="0.1" friction="0.1"/>
  </joint>
  <link name="l_shoulder_link">
    <collision>
      <origin rpy="0 0 0" xyz="0 0 -0.14"/>
      <geometry>
        <!-- <cylinder length="${length}" radius="${radius}"/> -->
        <box size="0.075 0.06 0.28"/>
      </geometry>
    </collision>
    <visual>
      <origin rpy="0 0 0" xyz="0 0 -0.14"/>
      <geometry>
        <!-- <cylinder length="${length}" radius="${radius}"/> -->
        <box size="0.075 0.06 0.28"/>
      </geometry>
      <material name="orbita2dmetal">
        <color rgba="0.85 0.85 0.85 1.0"/>
      </material>
    </visual>
    <inertial>
      <mass value="0.245"/>
      <origin rpy="0 0 0" xyz="0 0 -0.14"/>
      <inertia ixx="0.001674166666666667" ixy="0.0" ixz="0.0" iyy="0.001674166666666667" iyz="0.0" izz="0.000147"/>
    </inertial>
  </link>
  <joint name="l_shoulder_roll" type="revolute">
    <origin rpy="0 0 0" xyz="0 0 0"/>
    <parent link="l_shoulder_dummy_link"/>
    <child link="l_shoulder_link"/>
    <axis xyz="1 0 0"/>
    <limit effort="1000.0" lower="-1.5707963267948966" upper="0.0" velocity="100.0"/>
    <safety_controller k_position="500" k_velocity="500" soft_lower_limit="-3.1415" soft_upper_limit="3.1415"/>
    <dynamics damping="0.1" friction="0.1"/>
  </joint>
  <gazebo reference="l_shoulder_link">
    <material>Gazebo/Orange</material>
  </gazebo>
  <link name="l_shoulder_ball_link">
    <visual>
      <origin rpy="0 0 0" xyz="0 0 0"/>
      <geometry>
        <sphere radius="0.036"/>
      </geometry>
      <material name="orbita2dgrey">
        <color rgba="0.8 0.8 0.8 1.0"/>
      </material>
    </visual>
    <collision>
      <origin rpy="0 0 0" xyz="0 0 0"/>
      <geometry>
        <sphere radius="0.036"/>
      </geometry>
    </collision>
    <inertial>
      <mass value="0.25"/>
      <origin xyz="0 0 0"/>
      <inertia ixx="0.00012959999999999998" ixy="0.0" ixz="0.0" iyy="0.00012959999999999998" iyz="0.0" izz="0.00012959999999999998"/>
    </inertial>
  </link>
  <joint name="l_shoulder_ball_joint" type="fixed">
    <origin rpy="0 0 0" xyz="0 0 0"/>
    <parent link="l_shoulder_link"/>
    <child link="l_shoulder_ball_link"/>
  </joint>
  <!--
      Orbita 2 dof

    link                      (joint)

    ${parent}                 (${name}_joint1)
      ${name}_dummy_link      (${name}_joint2)
        ${name}_link          (${name}_ball_joint)
          ${name}_ball_link
    -->
  <link name="l_elbow_dummy_link">
    <inertial>
      <mass value="0.0045000000000000005"/>
      <origin rpy="0 0 0" xyz="0 0 0"/>
      <inertia ixx="3.033750000000001e-05" ixy="0.0" ixz="0.0" iyy="3.033750000000001e-05" iyz="0.0" izz="1.8750000000000007e-06"/>
    </inertial>
  </link>
  <joint name="l_elbow_yaw" type="revolute">
    <origin rpy="0 0 0.2617993877991494" xyz="0 0 -0.28"/>
    <parent link="l_shoulder_ball_link"/>
    <child link="l_elbow_dummy_link"/>
    <axis xyz="0 0 1"/>
    <limit effort="1000.0" lower="-1.5707963267948966" upper="1.5707963267948966" velocity="100.0"/>
    <safety_controller k_position="500" k_velocity="500" soft_lower_limit="-3.1415" soft_upper_limit="3.1415"/>
    <dynamics damping="0.1" friction="0.1"/>
  </joint>
  <link name="l_elbow_link">
    <collision>
      <origin rpy="0 0 0" xyz="0 0 -0.14"/>
      <geometry>
        <!-- <cylinder length="${length}" radius="${radius}"/> -->
        <box size="0.0625 0.05 0.28"/>
      </geometry>
    </collision>
    <visual>
      <origin rpy="0 0 0" xyz="0 0 -0.14"/>
      <geometry>
        <!-- <cylinder length="${length}" radius="${radius}"/> -->
        <box size="0.0625 0.05 0.28"/>
      </geometry>
      <material name="orbita2dmetal">
        <color rgba="0.85 0.85 0.85 1.0"/>
      </material>
    </visual>
    <inertial>
      <mass value="0.2205"/>
      <origin rpy="0 0 0" xyz="0 0 -0.14"/>
      <inertia ixx="0.0014865375000000002" ixy="0.0" ixz="0.0" iyy="0.0014865375000000002" iyz="0.0" izz="9.187500000000001e-05"/>
    </inertial>
  </link>
  <joint name="l_elbow_pitch" type="revolute">
    <origin rpy="0 0 0" xyz="0 0 0"/>
    <parent link="l_elbow_dummy_link"/>
    <child link="l_elbow_link"/>
    <axis xyz="0 1 0"/>
    <limit effort="1000.0" lower="-2.25" upper="0.1" velocity="100.0"/>
    <safety_controller k_position="500" k_velocity="500" soft_lower_limit="-3.1415" soft_upper_limit="3.1415"/>
    <dynamics damping="0.1" friction="0.1"/>
  </joint>
  <gazebo reference="l_elbow_link">
    <material>Gazebo/Orange</material>
  </gazebo>
  <link name="l_elbow_ball_link">
    <visual>
      <origin rpy="0 0 0" xyz="0 0 0"/>
      <geometry>
        <sphere radius="0.03"/>
      </geometry>
      <material name="orbita2dgrey">
        <color rgba="0.8 0.8 0.8 1.0"/>
      </material>
    </visual>
    <collision>
      <origin rpy="0 0 0" xyz="0 0 0"/>
      <geometry>
        <sphere radius="0.03"/>
      </geometry>
    </collision>
    <inertial>
      <mass value="0.225"/>
      <origin xyz="0 0 0"/>
      <inertia ixx="8.1e-05" ixy="0.0" ixz="0.0" iyy="8.1e-05" iyz="0.0" izz="8.1e-05"/>
    </inertial>
  </link>
  <joint name="l_elbow_ball_joint" type="fixed">
    <origin rpy="0 0 0" xyz="0 0 0"/>
    <parent link="l_elbow_link"/>
    <child link="l_elbow_ball_link"/>
  </joint>
  <!--
      Orbita3d

    link                      (joint)

    ${parent}                  (${name}_roll)
      ${name}_dummy_link1      (${name}_pitch)
        ${name}_dummy_link2    (${name}_yaw)
          ${name}_link         (${name}_ball_joint)
            ${name}_ball_link
    -->
  <link name="l_wrist_dummy_link1">
    <inertial>
      <mass value="0.003"/>
      <origin rpy="0 0 0" xyz="0 0 0"/>
      <inertia ixx="4.25e-07" ixy="0.0" ixz="0.0" iyy="4.25e-07" iyz="0.0" izz="8.000000000000001e-07"/>
    </inertial>
  </link>
  <link name="l_wrist_dummy_link2">
    <inertial>
      <mass value="0.003"/>
      <origin rpy="0 0 0" xyz="0 0 0"/>
      <inertia ixx="4.25e-07" ixy="0.0" ixz="0.0" iyy="4.25e-07" iyz="0.0" izz="8.000000000000001e-07"/>
    </inertial>
  </link>
  <link name="l_wrist_link">
    <visual>
      <origin rpy="0 0 0" xyz="0 0 0.005"/>
      <geometry>
        <cylinder length="0.01" radius="0.02"/>
      </geometry>
      <material name="orbita3d_yellow">
        <color rgba="0.8 0.8 0.0 1"/>
      </material>
    </visual>
    <collision>
      <origin rpy="0 0 0" xyz="0 0 0.005"/>
      <geometry>
        <cylinder length="0.01" radius="0.02"/>
      </geometry>
    </collision>
    <inertial>
      <mass value="0.144"/>
      <origin rpy="0 0 0" xyz="0 0 -0.005"/>
      <inertia ixx="2.0399999999999998e-05" ixy="0.0" ixz="0.0" iyy="2.0399999999999998e-05" iyz="0.0" izz="3.84e-05"/>
    </inertial>
  </link>
  <link name="l_wrist_ball_link">
    <visual>
      <origin rpy="0 0 0" xyz="0 0 0"/>
      <geometry>
        <sphere radius="0.024"/>
      </geometry>
      <material name="orbita3d_grey">
        <color rgba="0.8 0.8 0.8 1"/>
      </material>
    </visual>
    <collision>
      <origin rpy="0 0 0" xyz="0 0 0"/>
      <geometry>
        <sphere radius="0.024"/>
      </geometry>
    </collision>
    <inertial>
      <mass value="0.15"/>
      <origin xyz="0 0 0"/>
      <inertia ixx="3.456e-05" ixy="0.0" ixz="0.0" iyy="3.456e-05" iyz="0.0" izz="3.456e-05"/>
    </inertial>
  </link>
  <joint name="l_wrist_ball_joint" type="fixed">
    <origin rpy="0 0 0" xyz="0 0 0"/>
    <parent link="l_wrist_link"/>
    <child link="l_wrist_ball_link"/>
  </joint>
  <joint name="l_wrist_roll" type="revolute">
    <origin rpy="3.141592653589793 0 0" xyz="0 0 -0.28"/>
    <parent link="l_elbow_ball_link"/>
    <child link="l_wrist_dummy_link1"/>
    <axis xyz="1 0 0"/>
    <limit effort="1000.0" lower="-0.35" upper="0.35" velocity="100.0"/>
    <dynamics damping="0.1" friction="0.1"/>
  </joint>
  <joint name="l_wrist_pitch" type="revolute">
    <origin rpy="0 0 0" xyz="0 0 0"/>
    <parent link="l_wrist_dummy_link1"/>
    <child link="l_wrist_dummy_link2"/>
    <axis xyz="0 1 0"/>
    <limit effort="1000.0" lower="-0.35" upper="0.35" velocity="100.0"/>
    <dynamics damping="0.1" friction="0.1"/>
  </joint>
  <joint name="l_wrist_yaw" type="revolute">
    <origin rpy="0 0 0" xyz="0 0 0"/>
    <parent link="l_wrist_dummy_link2"/>
    <child link="l_wrist_link"/>
    <axis xyz="0 0 1"/>
    <limit effort="1000.0" lower="-1.57" upper="1.57" velocity="100.0"/>
    <dynamics damping="0.1" friction="0.1"/>
  </joint>
  <!-- URDF definition is so stupid we have to do that... -->
  <!-- <material name="gripperblack"> -->
  <!--     <color rgba="0.4 0.4 0.4 1"/> -->
  <!-- </material> -->
  <!-- <material name="gripperwhite"> -->
  <!--     <color rgba="0.9 0.9 0.9 1"/> -->
  <!-- </material> -->
  <!-- <material name="reachy_yellow"> -->
  <!--     <color rgba="0.8 0.8 0.0 1"/> -->
  <!-- </material> -->
  <!-- <material name="reachy_grey"> -->
  <!--     <color rgba="0.8 0.8 0.8 1"/> -->
  <!-- </material> -->
  <!-- <material name="reachy_metal"> -->
  <!--     <color rgba="0.85 0.85 0.85 1.0"/> -->
  <!-- </material> -->
  <!-- <material name="torsoblack"> -->
  <!--     <color rgba="0.5 0.5 0.5 1.0"/> -->
  <!-- </material> -->
  <!-- <material name="eyewhite"> -->
  <!--     <color rgba="1.0 1.0 1.0 1.0"/> -->
  <!-- </material> -->
  <!-- <material name="orbita2dmetal"> -->
  <!--     <color rgba="0.85 0.85 0.85 1.0"/> -->
  <!-- </material> -->
  <!-- <material name="orbita2dgrey"> -->
  <!--     <color rgba="0.8 0.8 0.8 1.0"/> -->
  <!-- </material> -->
  <!-- <material name="orbita3d_yellow"> -->
  <!--     <color rgba="0.8 0.8 0.0 1"/> -->
  <!-- </material> -->
  <!-- <material name="orbita3d_grey"> -->
  <!--     <color rgba="0.8 0.8 0.8 1"/> -->
  <!-- </material> -->
  <!-- <material name="gripperblack"> -->
  <!--     <color rgba="0.4 0.4 0.4 1"/> -->
  <!-- </material> -->
  <!-- <material name="gripperwhite"> -->
  <!--     <color rgba="0.9 0.9 0.9 1"/> -->
  <!-- </material> -->
  <link name="l_hand_palm_link">
    <collision>
      <origin rpy="0 0 0" xyz="0 0 0.03 "/>
      <geometry>
        <box size="0.03 0.06 0.06"/>
      </geometry>
    </collision>
    <visual>
      <origin rpy="0 0 0" xyz="0 0 0.03 "/>
      <geometry>
        <box size="0.03 0.06 0.06"/>
      </geometry>
      <material name="gripperblack">
        <color rgba="0.4 0.4 0.4 1"/>
      </material>
    </visual>
    <inertial>
      <mass value="0.2125"/>
      <origin rpy="0 0 0" xyz="0 0 0.03"/>
      <inertia ixx="0.00012749999999999998" ixy="0.0" ixz="0.0" iyy="7.968749999999999e-05" iyz="0.0" izz="7.968749999999999e-05"/>
    </inertial>
  </link>
  <joint name="l_hand_palm" type="fixed">
    <origin rpy="0.0 0 0.0" xyz="0 0 0"/>
    <parent link="l_wrist_ball_link"/>
    <child link="l_hand_palm_link"/>
  </joint>
  <link name="l_hand_index_link">
    <collision>
      <origin rpy="0 0 0" xyz="0 0 0.03 "/>
      <geometry>
        <box size="0.03 0.01 0.06"/>
      </geometry>
    </collision>
    <visual>
      <origin rpy="0 0 0" xyz="0 0 0.03 "/>
      <geometry>
        <box size="0.03 0.01 0.06"/>
      </geometry>
      <material name="gripperwhite">
        <color rgba="0.9 0.9 0.9 1"/>
      </material>
    </visual>
    <inertial>
      <mass value="0.025"/>
      <origin rpy="0 0 0" xyz="0 0.03 0.03"/>
      <inertia ixx="7.708333333333334e-06" ixy="0.0" ixz="0.0" iyy="9.375e-06" iyz="0.0" izz="2.0833333333333334e-06"/>
    </inertial>
  </link>
  <link name="l_hand_index_mimic_link">
    <collision>
      <origin rpy="0 0 0" xyz="0 0 0.03 "/>
      <geometry>
        <box size="0.03 0.01 0.06"/>
      </geometry>
    </collision>
    <visual>
      <origin rpy="0 0 0" xyz="0 0 0.03 "/>
      <geometry>
        <box size="0.03 0.01 0.06"/>
      </geometry>
      <material name="gripperwhite">
        <color rgba="0.9 0.9 0.9 1"/>
      </material>
    </visual>
    <inertial>
      <mass value="0.025"/>
      <origin rpy="0 0 0" xyz="0 0.03 0.03"/>
      <inertia ixx="7.708333333333334e-06" ixy="0.0" ixz="0.0" iyy="9.375e-06" iyz="0.0" izz="2.0833333333333334e-06"/>
    </inertial>
  </link>
  <joint name="l_hand_finger" type="revolute">
    <origin rpy="0 0 0" xyz="0 -0.03 0.06"/>
    <parent link="l_hand_palm_link"/>
    <child link="l_hand_index_link"/>
    <axis xyz="1 0 0"/>
    <limit effort="1000.0" lower="-2.094" upper="0.785" velocity="0.0"/>
    <dynamics damping="0.1" friction="0.1"/>
  </joint>
  <joint name="l_hand_finger_mimic" type="revolute">
    <origin rpy="0 0 0" xyz="0 0.03 0.06"/>
    <parent link="l_hand_palm_link"/>
    <child link="l_hand_index_mimic_link"/>
    <axis xyz="1 0 0"/>
    <limit effort="1000.0" lower="-2.094" upper="0.785" velocity="0.0"/>
    <dynamics damping="0.1" friction="0.1"/>
    <mimic joint="l_hand_finger" multiplier="-1" offset="0"/>
  </joint>
  <link name="l_arm_tip"/>
  <joint name="l_tip_joint" type="fixed">
    <origin rpy="3.141592653589793 0 0" xyz="0 0 0.1"/>
    <parent link="l_hand_palm_link"/>
    <child link="l_arm_tip"/>
  </joint>
  <ros2_control name="l_arm" type="system">
    <hardware>
      <!-- Use real hardware. -->
      <!-- <xacro:unless value="$(arg use_fake_hardware)"> -->
      <plugin>arm_system_hwi/ArmSystemHwi</plugin>
      <param name="config_file">[local-path]/reachy_ws/install/arm_description/share/arm_description/config/fake_arm.yaml</param>
      <!-- </xacro:unless> -->
      <!-- <xacro:if value="$(arg use_fake_hardware)"> -->
      <!-- Use gazebo as hardware simulation. -->
      <!-- <xacro:if value="$(arg use_gazebo)"> -->
      <!-- <plugin>gazebo_ros2_control/GazeboSystem</plugin> -->
      <!-- </xacro:if> -->
      <!-- Use fake components. -->
      <!-- <xacro:unless value="$(arg use_gazebo)"> -->
      <!-- <plugin>fake_components/GenericSystem</plugin> -->
      <!-- </xacro:unless> -->
      <!-- </xacro:if> -->
    </hardware>
    <gpio name="l_shoulder">
      <state_interface name="torque">
        <param name="initial_value">0.0</param>
      </state_interface>
      <command_interface name="torque"/>
    </gpio>
    <joint name="l_shoulder_pitch">
      <state_interface name="position">
        <param name="initial_value">0.0</param>
      </state_interface>
      <state_interface name="velocity">
        <param name="initial_value">0.0</param>
      </state_interface>
      <state_interface name="effort">
        <param name="initial_value">0.0</param>
      </state_interface>
      <command_interface name="position"/>
    </joint>
    <joint name="l_shoulder_roll">
      <state_interface name="position">
        <param name="initial_value">0.0</param>
      </state_interface>
      <state_interface name="velocity">
        <param name="initial_value">0.0</param>
      </state_interface>
      <state_interface name="effort">
        <param name="initial_value">0.0</param>
      </state_interface>
      <command_interface name="position"/>
    </joint>
    <gpio name="l_shoulder_raw_motor_1">
      <state_interface name="speed_limit"/>
      <command_interface name="speed_limit"/>
      <state_interface name="torque_limit"/>
      <command_interface name="torque_limit"/>
      <state_interface name="p_gain"/>
      <command_interface name="p_gain"/>
      <state_interface name="i_gain"/>
      <command_interface name="i_gain"/>
      <state_interface name="d_gain"/>
      <command_interface name="d_gain"/>
    </gpio>
    <gpio name="l_shoulder_raw_motor_2">
      <state_interface name="speed_limit"/>
      <command_interface name="speed_limit"/>
      <state_interface name="torque_limit"/>
      <command_interface name="torque_limit"/>
      <state_interface name="p_gain"/>
      <command_interface name="p_gain"/>
      <state_interface name="i_gain"/>
      <command_interface name="i_gain"/>
      <state_interface name="d_gain"/>
      <command_interface name="d_gain"/>
    </gpio>
    <gpio name="l_elbow">
      <state_interface name="torque">
        <param name="initial_value">0.0</param>
      </state_interface>
      <command_interface name="torque"/>
    </gpio>
    <joint name="l_elbow_yaw">
      <state_interface name="position">
        <param name="initial_value">0.0</param>
      </state_interface>
      <state_interface name="velocity">
        <param name="initial_value">0.0</param>
      </state_interface>
      <state_interface name="effort">
        <param name="initial_value">0.0</param>
      </state_interface>
      <command_interface name="position"/>
    </joint>
    <joint name="l_elbow_pitch">
      <state_interface name="position">
        <param name="initial_value">0.0</param>
      </state_interface>
      <state_interface name="velocity">
        <param name="initial_value">0.0</param>
      </state_interface>
      <state_interface name="effort">
        <param name="initial_value">0.0</param>
      </state_interface>
      <command_interface name="position"/>
    </joint>
    <gpio name="l_elbow_raw_motor_1">
      <state_interface name="speed_limit"/>
      <command_interface name="speed_limit"/>
      <state_interface name="torque_limit"/>
      <command_interface name="torque_limit"/>
      <state_interface name="p_gain"/>
      <command_interface name="p_gain"/>
      <state_interface name="i_gain"/>
      <command_interface name="i_gain"/>
      <state_interface name="d_gain"/>
      <command_interface name="d_gain"/>
    </gpio>
    <gpio name="l_elbow_raw_motor_2">
      <state_interface name="speed_limit"/>
      <command_interface name="speed_limit"/>
      <state_interface name="torque_limit"/>
      <command_interface name="torque_limit"/>
      <state_interface name="p_gain"/>
      <command_interface name="p_gain"/>
      <state_interface name="i_gain"/>
      <command_interface name="i_gain"/>
      <state_interface name="d_gain"/>
      <command_interface name="d_gain"/>
    </gpio>
    <gpio name="l_wrist">
      <state_interface name="torque">
        <param name="initial_value">0.0</param>
      </state_interface>
      <command_interface name="torque"/>
    </gpio>
    <joint name="l_wrist_roll">
      <state_interface name="position">
        <param name="initial_value">0.0</param>
      </state_interface>
      <state_interface name="velocity">
        <param name="initial_value">0.0</param>
      </state_interface>
      <state_interface name="effort">
        <param name="initial_value">0.0</param>
      </state_interface>
      <command_interface name="position"/>
    </joint>
    <joint name="l_wrist_pitch">
      <state_interface name="position">
        <param name="initial_value">0.0</param>
      </state_interface>
      <state_interface name="velocity">
        <param name="initial_value">0.0</param>
      </state_interface>
      <state_interface name="effort">
        <param name="initial_value">0.0</param>
      </state_interface>
      <command_interface name="position"/>
    </joint>
    <joint name="l_wrist_yaw">
      <state_interface name="position">
        <param name="initial_value">0.0</param>
      </state_interface>
      <state_interface name="velocity">
        <param name="initial_value">0.0</param>
      </state_interface>
      <state_interface name="effort">
        <param name="initial_value">0.0</param>
      </state_interface>
      <command_interface name="position"/>
    </joint>
    <gpio name="l_wrist_raw_motor_1">
      <state_interface name="speed_limit"/>
      <command_interface name="speed_limit"/>
      <state_interface name="torque_limit"/>
      <command_interface name="torque_limit"/>
      <state_interface name="p_gain"/>
      <command_interface name="p_gain"/>
      <state_interface name="i_gain"/>
      <command_interface name="i_gain"/>
      <state_interface name="d_gain"/>
      <command_interface name="d_gain"/>
    </gpio>
    <gpio name="l_wrist_raw_motor_2">
      <state_interface name="speed_limit"/>
      <command_interface name="speed_limit"/>
      <state_interface name="torque_limit"/>
      <command_interface name="torque_limit"/>
      <state_interface name="p_gain"/>
      <command_interface name="p_gain"/>
      <state_interface name="i_gain"/>
      <command_interface name="i_gain"/>
      <state_interface name="d_gain"/>
      <command_interface name="d_gain"/>
    </gpio>
    <gpio name="l_wrist_raw_motor_3">
      <state_interface name="speed_limit"/>
      <command_interface name="speed_limit"/>
      <state_interface name="torque_limit"/>
      <command_interface name="torque_limit"/>
      <state_interface name="p_gain"/>
      <command_interface name="p_gain"/>
      <state_interface name="i_gain"/>
      <command_interface name="i_gain"/>
      <state_interface name="d_gain"/>
      <command_interface name="d_gain"/>
    </gpio>
    <gpio name="l_hand">
      <state_interface name="torque">
        <param name="initial_value">0.0</param>
      </state_interface>
      <command_interface name="torque"/>
    </gpio>
    <joint name="l_hand_finger">
      <state_interface name="position">
        <param name="initial_value">0.0</param>
      </state_interface>
      <state_interface name="velocity">
        <param name="initial_value">0.0</param>
      </state_interface>
      <state_interface name="effort">
        <param name="initial_value">0.0</param>
      </state_interface>
      <command_interface name="position"/>
    </joint>
    <gpio name="l_hand_raw_motor_1">
      <state_interface name="speed_limit"/>
      <command_interface name="speed_limit"/>
      <state_interface name="torque_limit"/>
      <command_interface name="torque_limit"/>
      <state_interface name="p_gain"/>
      <command_interface name="p_gain"/>
      <state_interface name="i_gain"/>
      <command_interface name="i_gain"/>
      <state_interface name="d_gain"/>
      <command_interface name="d_gain"/>
    </gpio>
  </ros2_control>
  <!-- <link name="r_wrist_cam_frame"/> -->
  <!-- <joint name="r_wrist_cam_frame_joint" type="fixed"> -->
  <!--   <origin xyz="0 0 0" rpy="0.0 0 0"/> -->
  <!--   <parent link="r_gripper_palm_link"/> -->
  <!--   <child link="r_wrist_cam_frame"/> -->
  <!-- </joint> -->
  <!-- <link name="r_wrist_camera"/> -->
  <!-- <joint name="r_wrist_camera_joint" type="fixed"> -->
  <!--   <origin xyz="0.11 -0.01 0.08" rpy="0.35 -0.7 0"/> -->
  <!--   <parent link="r_wrist_cam_frame"/> -->
  <!--   <child link="r_wrist_camera"/> -->
  <!-- </joint> -->
</robot>
